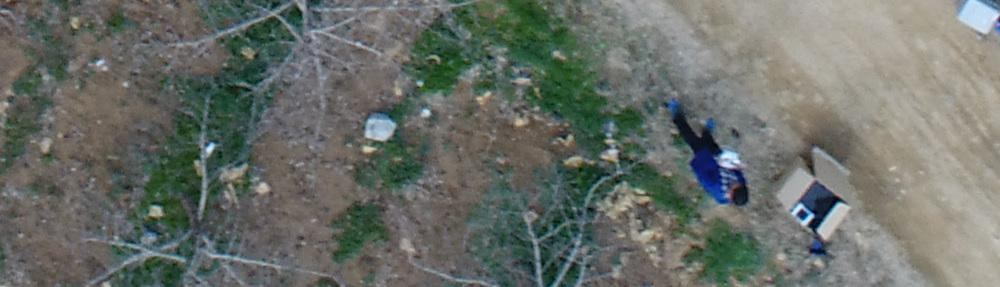apple: (152, 10, 495, 126)
